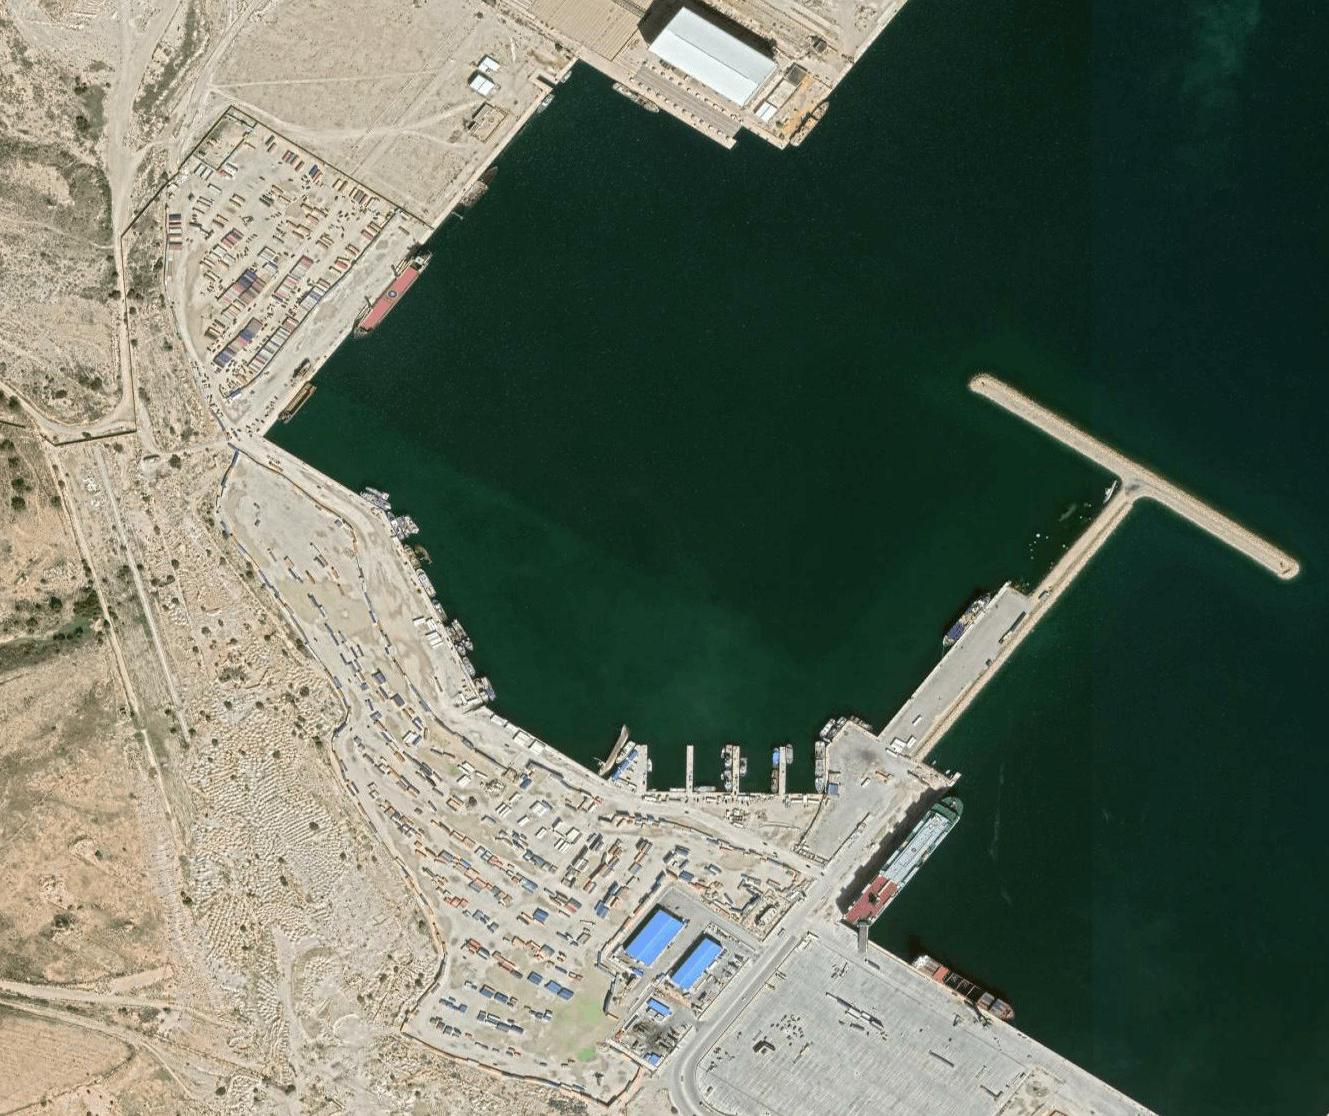harbor: (251, 89, 1304, 949)
